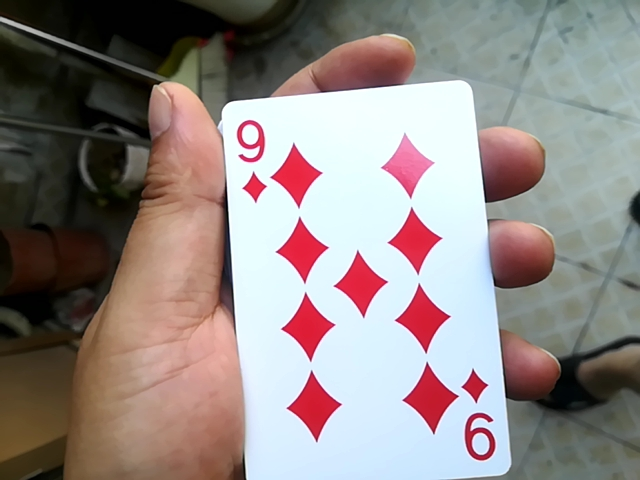fk 9: (199, 70, 483, 477)
